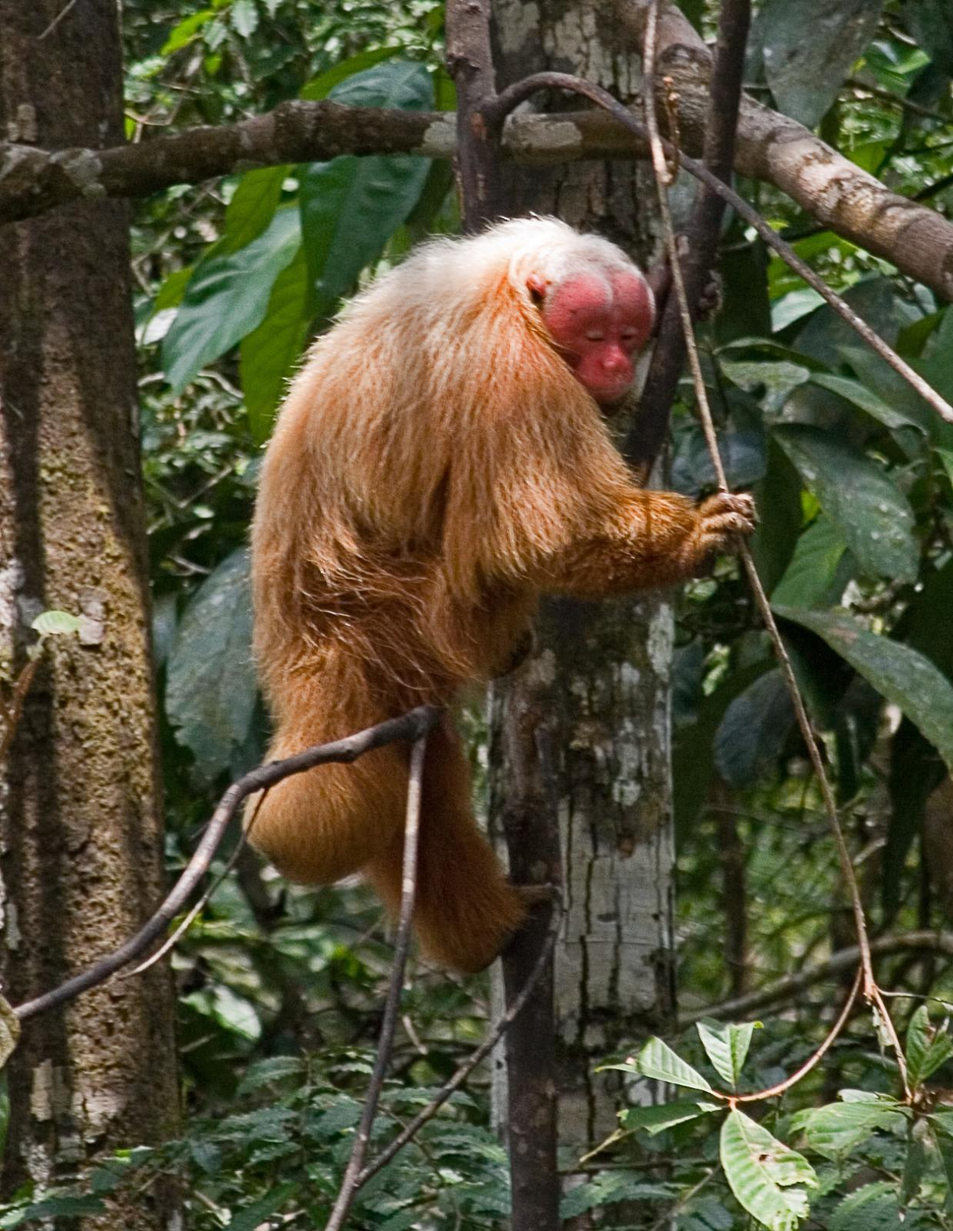monkey: (238, 215, 703, 979)
